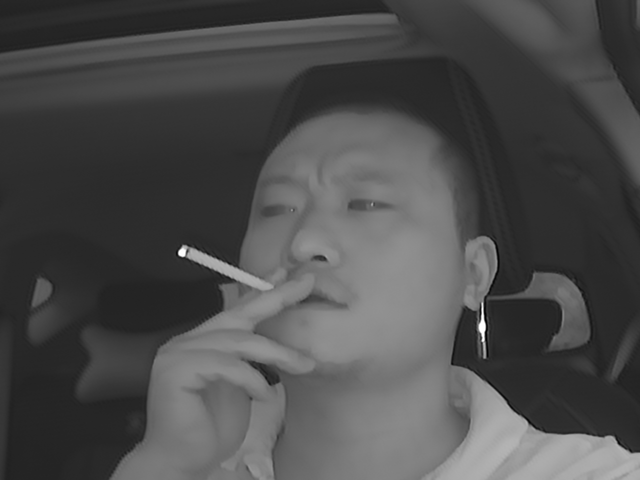hand: (167, 266, 311, 428)
